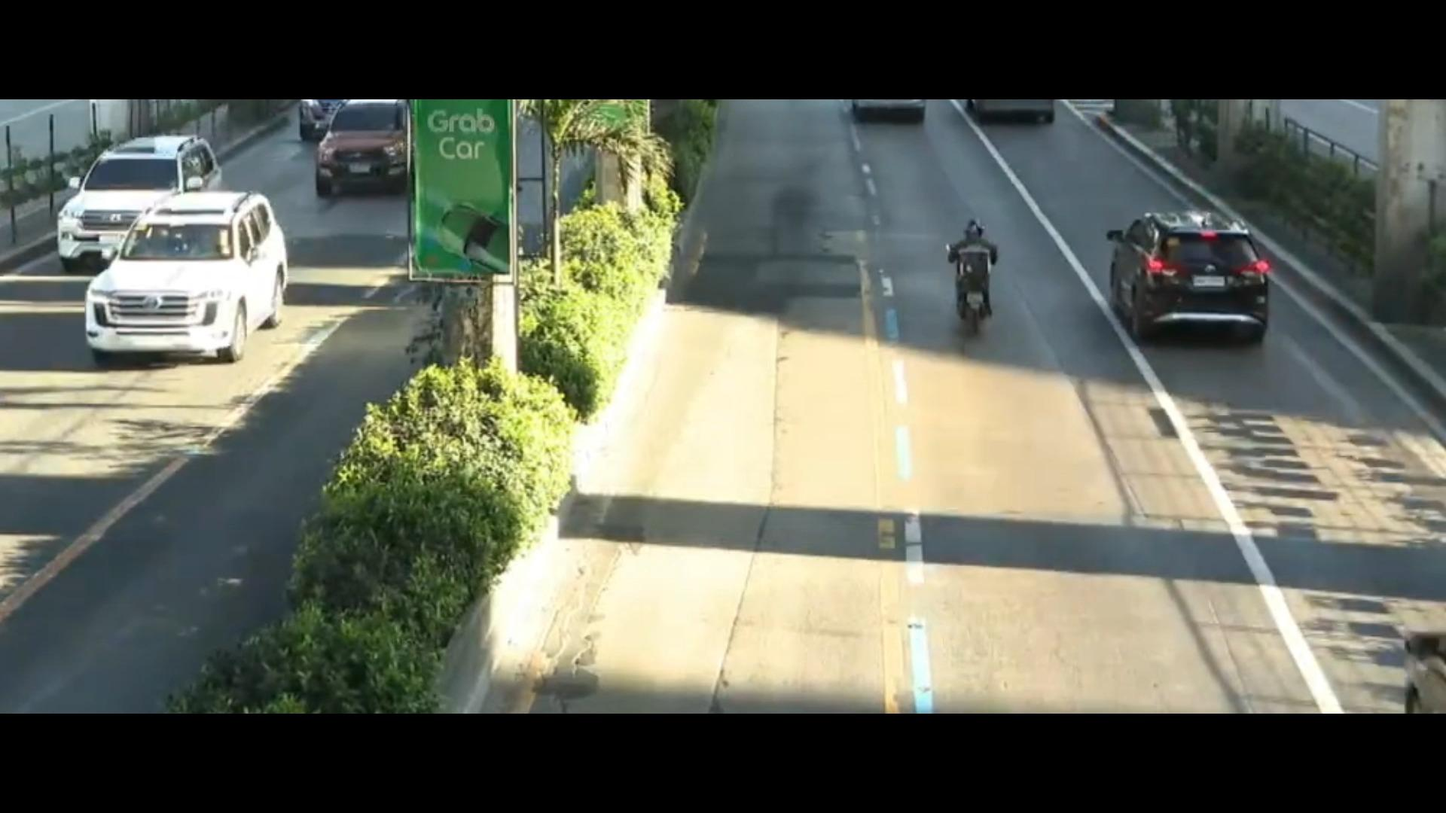Motorcycle: (930, 212, 1011, 331)
SUV: (48, 172, 324, 410), (1091, 194, 1286, 383), (34, 130, 238, 285), (292, 96, 411, 205)
